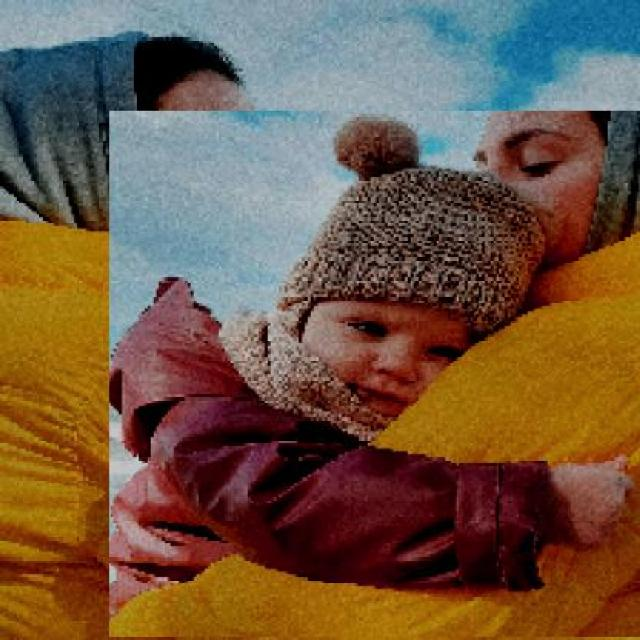child: (108, 110, 640, 638)
